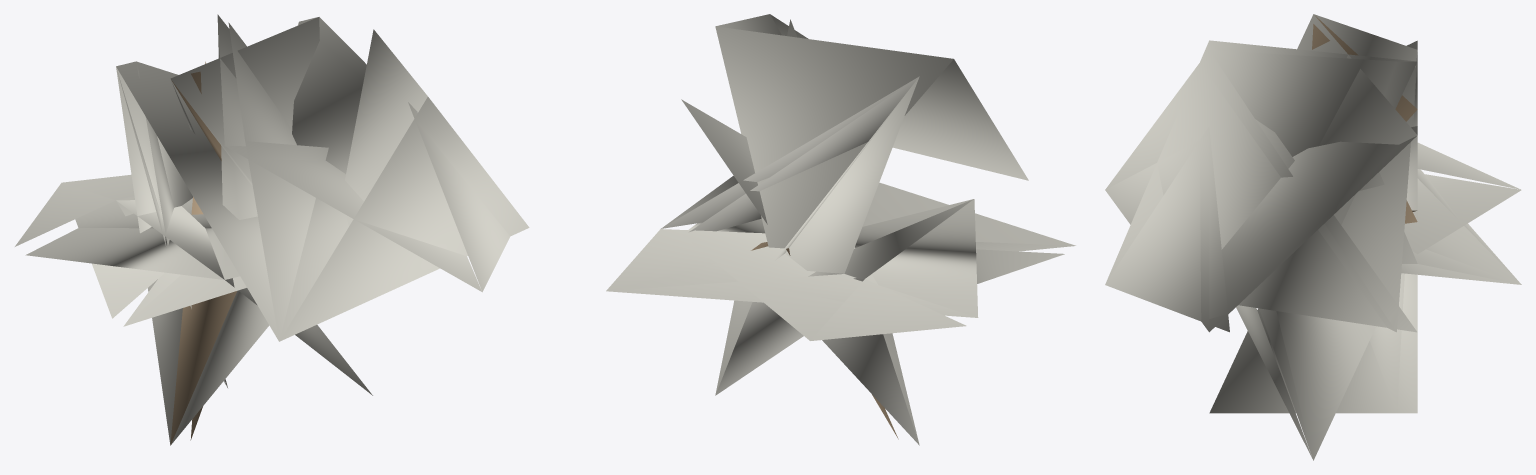
The model's file is building_shell_coastal.glb.
The picture shows the model from 3 angles, left to right: view 1: azimuth 30°, elevation 25°; view 2: azimuth 150°, elevation 25°; view 3: azimuth 270°, elevation 25°; orthographic projection. The views are drawn at different scales.
Parts seen in each view (by area): view 1: building_shell_coastal; view 2: building_shell_coastal; view 3: building_shell_coastal.
Part boxes in pixels (x1,y1,x2,y2): building_shell_coastal: [15, 14, 529, 445]; building_shell_coastal: [606, 14, 1075, 445]; building_shell_coastal: [1105, 14, 1521, 460].
Bounding box in the file's own units: 2.2 × 1.9 × 2.04.
